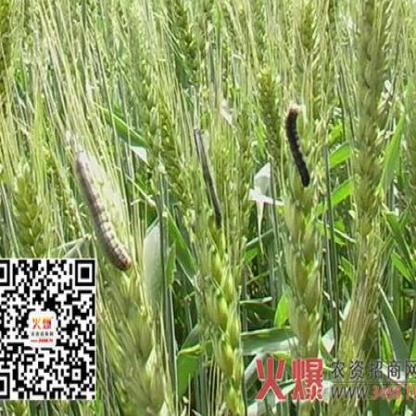armyworm: (69, 152, 143, 271), (192, 123, 230, 234), (282, 104, 316, 202)
